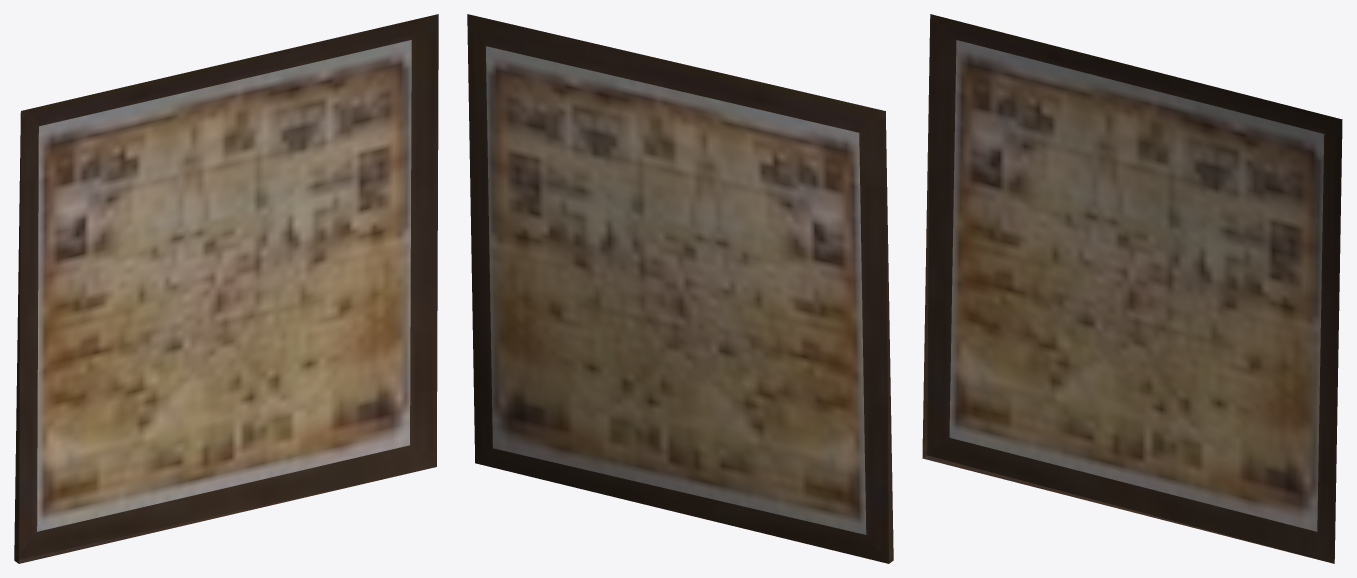
Rendered from map-picture-3.lod1.glb.
The picture shows the model from 3 angles, left to right: view 1: azimuth 30°, elevation 25°; view 2: azimuth 150°, elevation 25°; view 3: azimuth 330°, elevation 25°; orthographic projection.
Parts seen in each view (by area): view 1: map-picture-3; view 2: map-picture-3; view 3: map-picture-3.
Part boxes in pixels (x1,y1,x2,y2): map-picture-3: (14,14,438,563); map-picture-3: (467,14,893,563); map-picture-3: (922,14,1342,563).
Bounding box in the file's own units: 0.274 × 0.2815 × 0.00815.
Materials: 1 (1 with a texture image).
